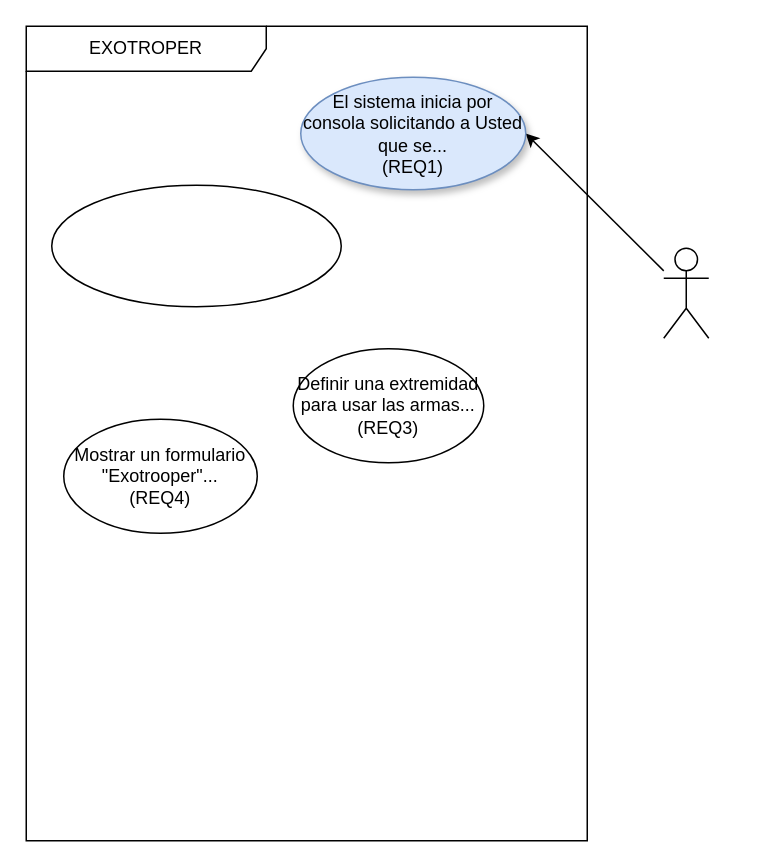
The diagram is 770 pixels wide and 867 high, and some of its shapes have lost their labels. The centre of each missing label's shape, as x and y in pixels:
"appExoTroper" goes at point (685, 292).
"EL Exobot se deriva de un sistema matriz con inteligencia.. (REQ2)" goes at point (195, 245).
